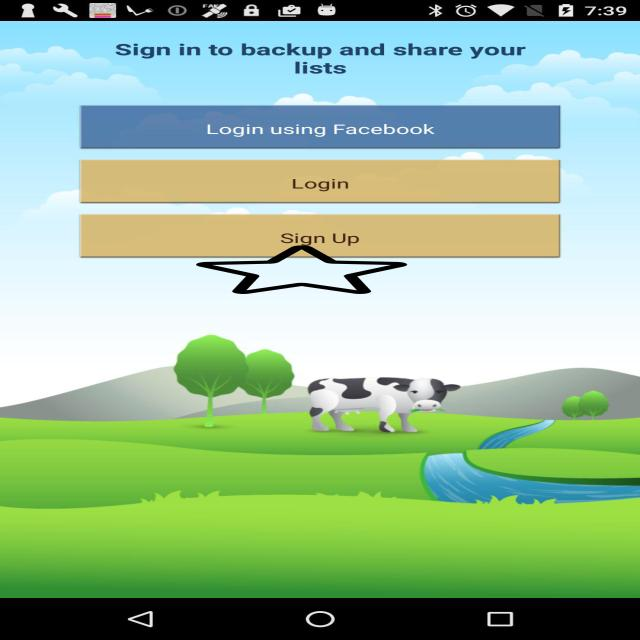forced continuity: (196, 244, 407, 295)
